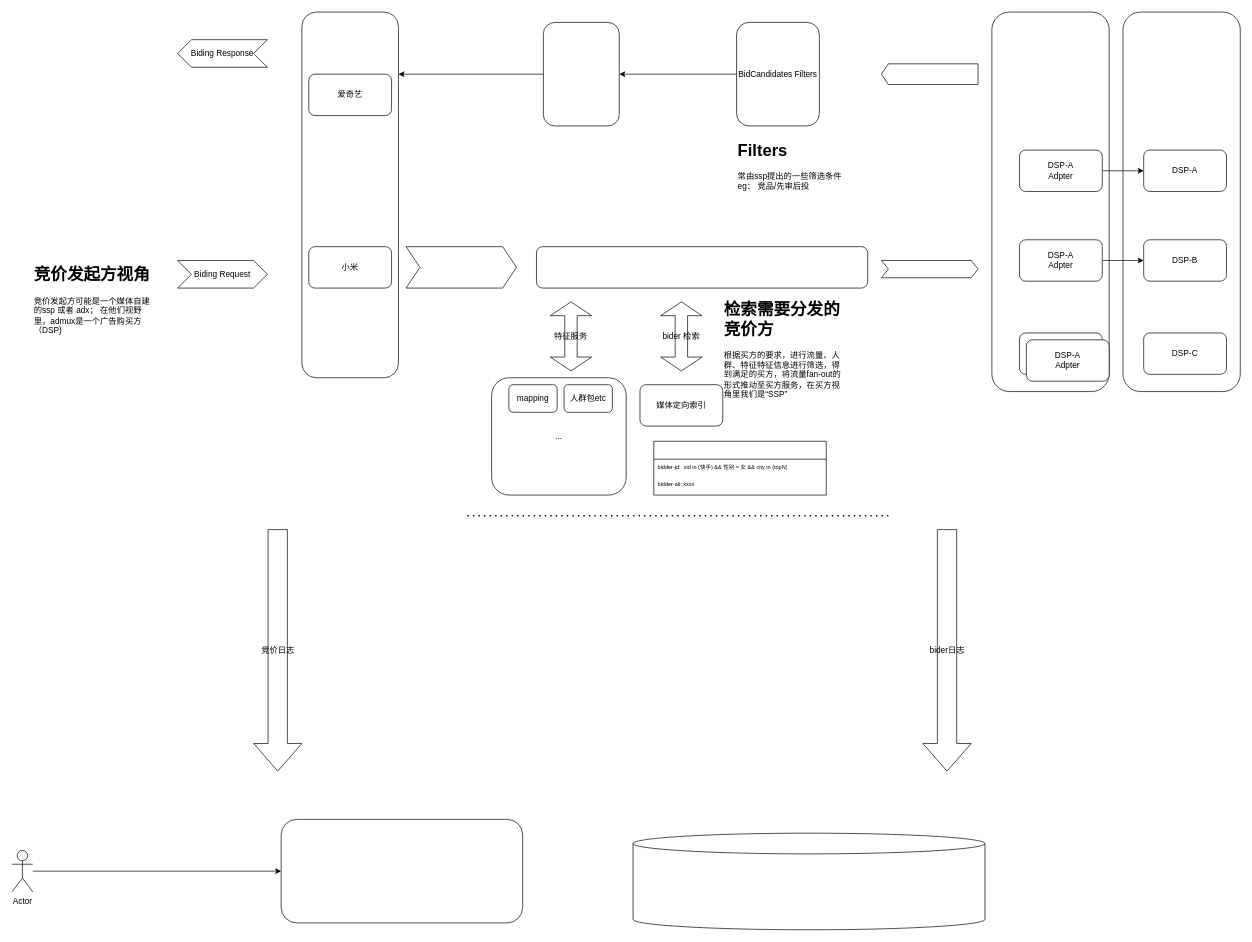
This 1252x942 diagram has some shape labels left out. Here are the shapes that lost their labels. From the top down, the box of each, then its label:
(543, 22, 619, 126): ranking
(881, 63, 978, 85): bid candidates
(301, 11, 398, 378): SSP Adapters
(991, 11, 1109, 392): DSP-Adapters
(1122, 11, 1240, 392): DSPs
(405, 246, 516, 288): 内部标准BIdding协议 OpenRTB
(536, 246, 868, 288): 流量分发
(881, 260, 978, 278): fan-out timeout
(653, 441, 826, 495): bidder indexing data
(280, 819, 523, 923): tracking 计价/win
(632, 832, 985, 930): MQ Hive 对账系统
